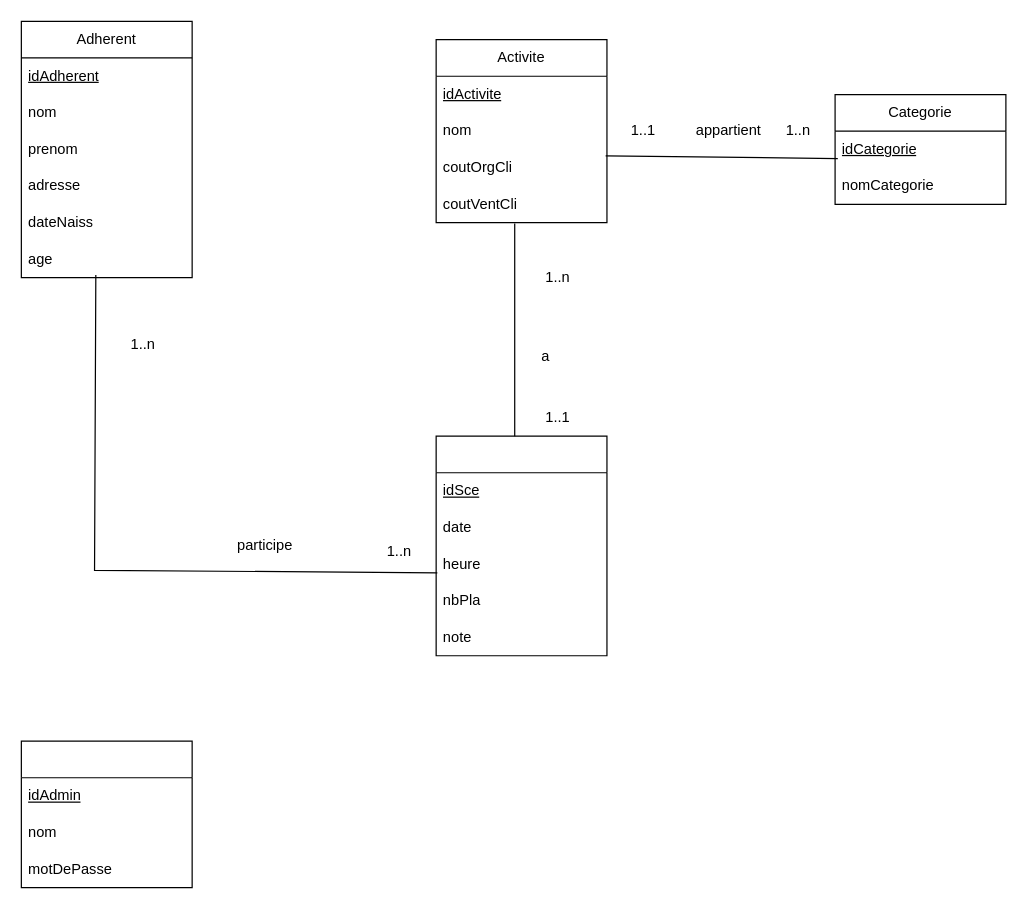
Some shapes in this 1027 by 909 pixel diagram are drawn without their labels. Here are the shapes that lost their labels. From the top down, the box of each, then its label:
(435, 435, 607, 656): Sceance
(20, 740, 192, 888): Administrateur
